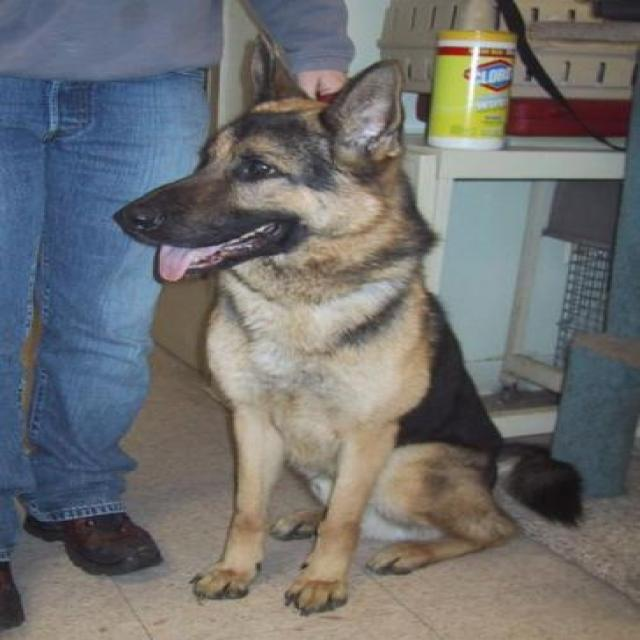Dogs: (111, 37, 585, 616)
